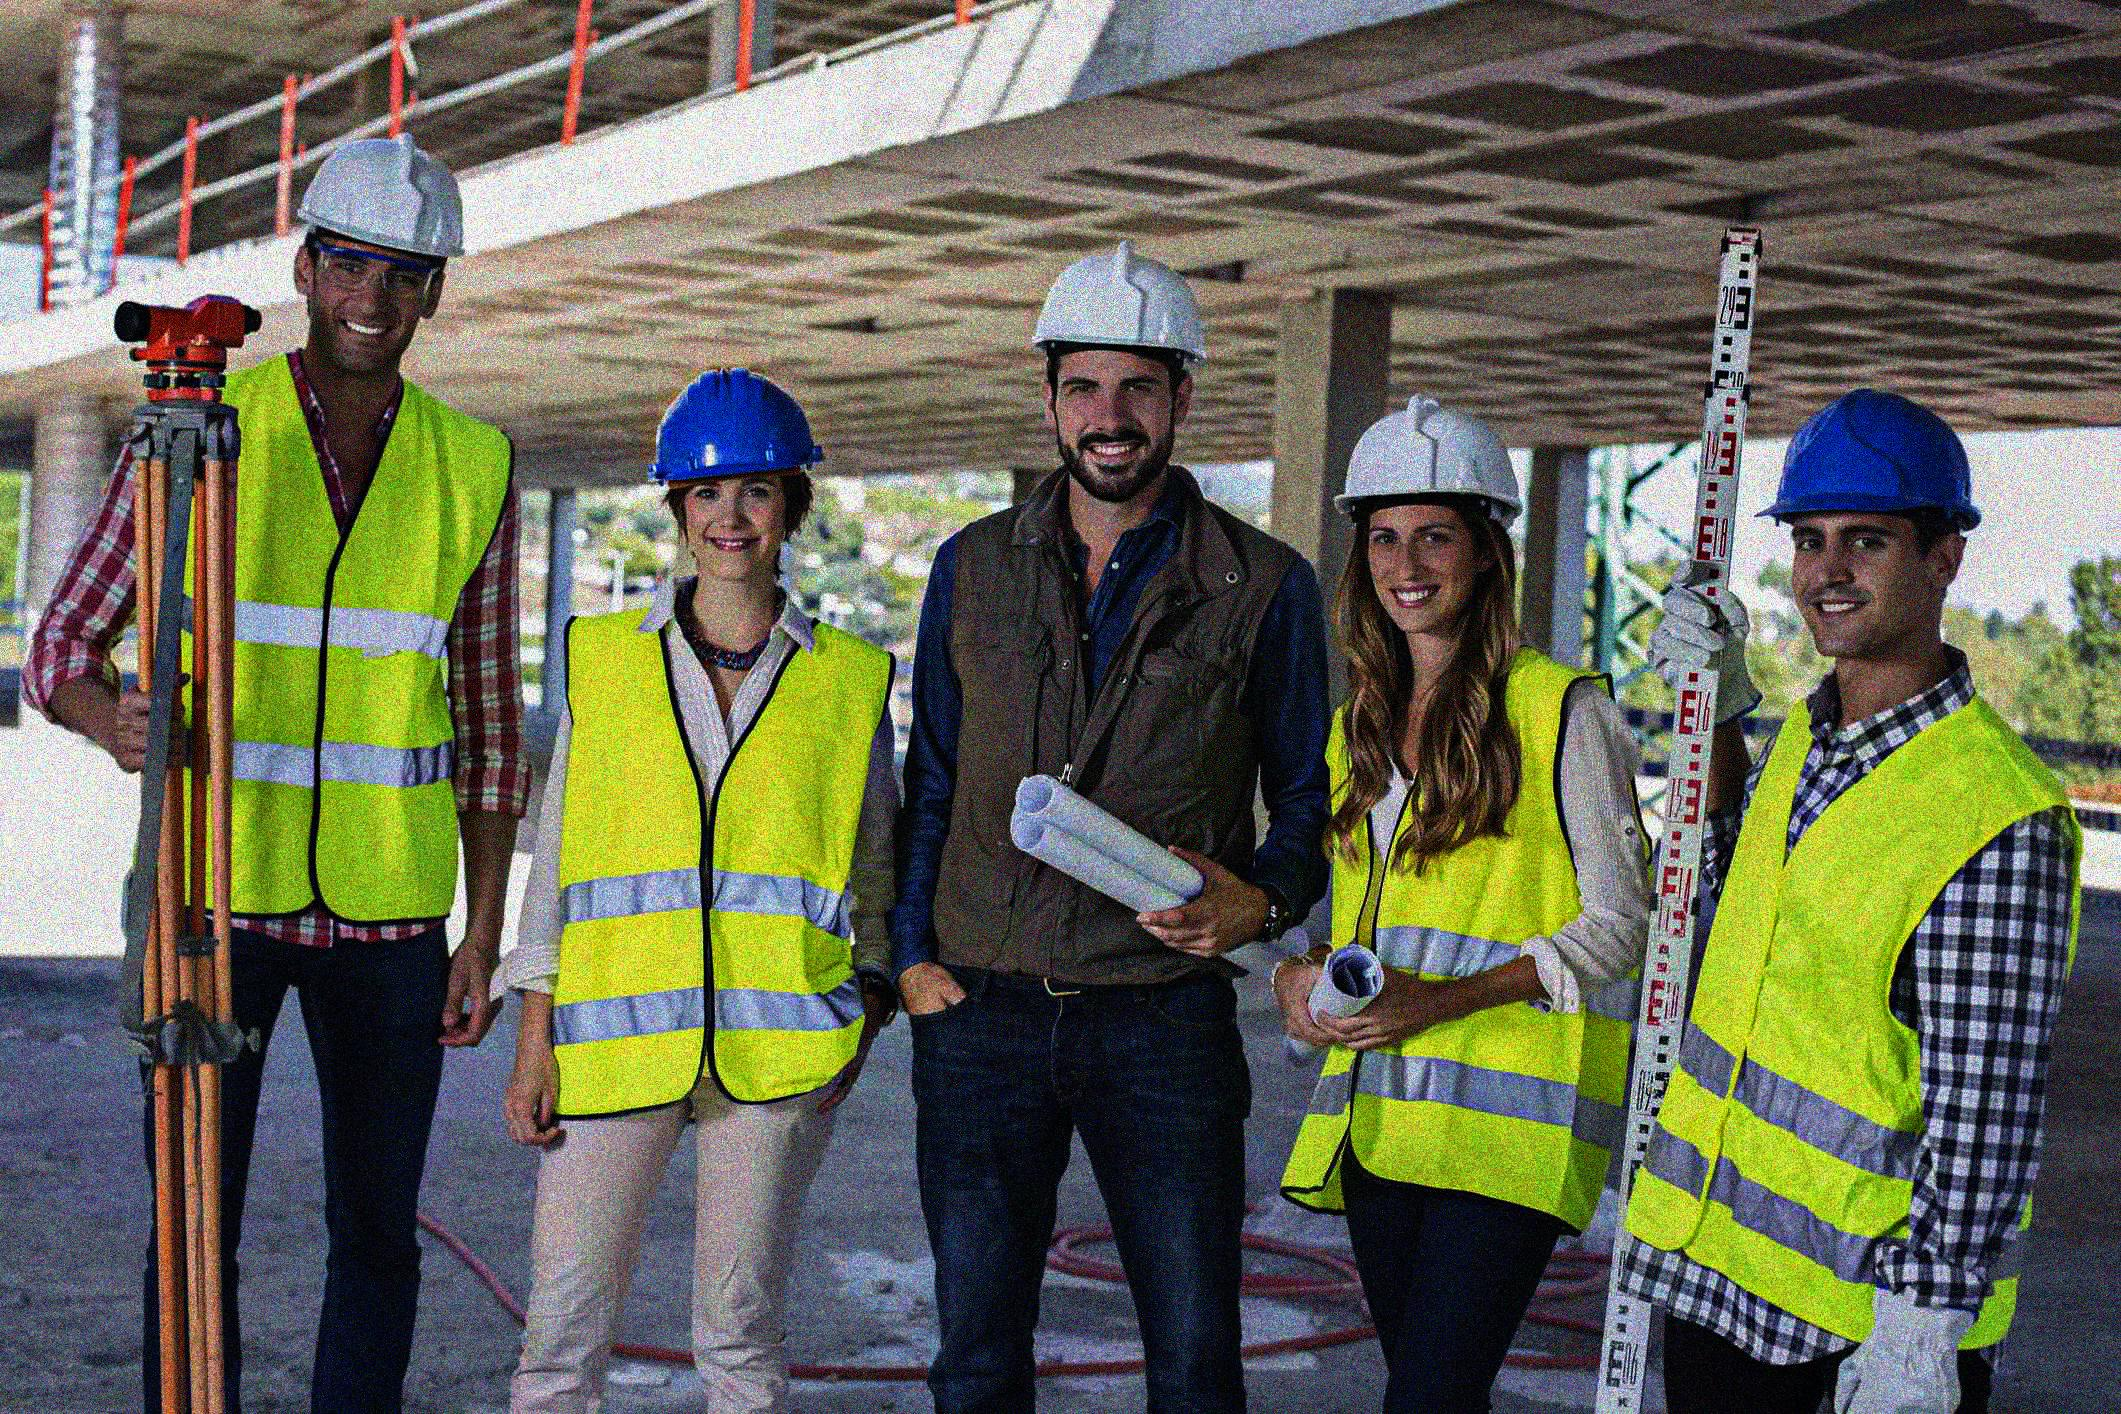helmet: (1766, 380, 1981, 655), (1031, 238, 1217, 513), (1326, 391, 1528, 631), (292, 129, 469, 377), (642, 361, 822, 585)
